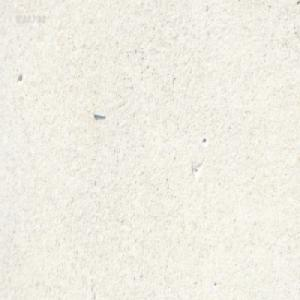Nail: (92, 109, 105, 118)
